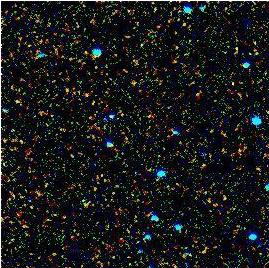star: (67, 35, 97, 65)
